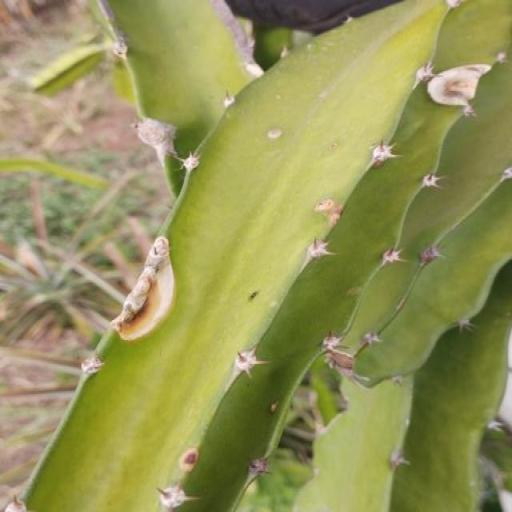stemcanker: (254, 118, 290, 176), (256, 382, 284, 424)
